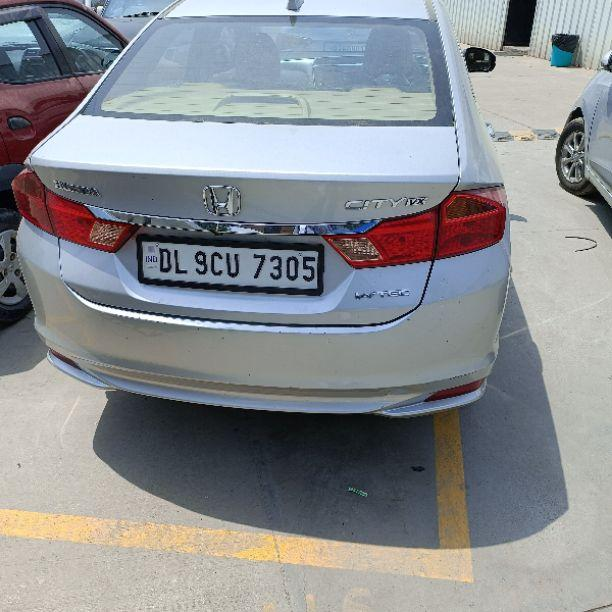license_plate: (135, 233, 324, 295)
